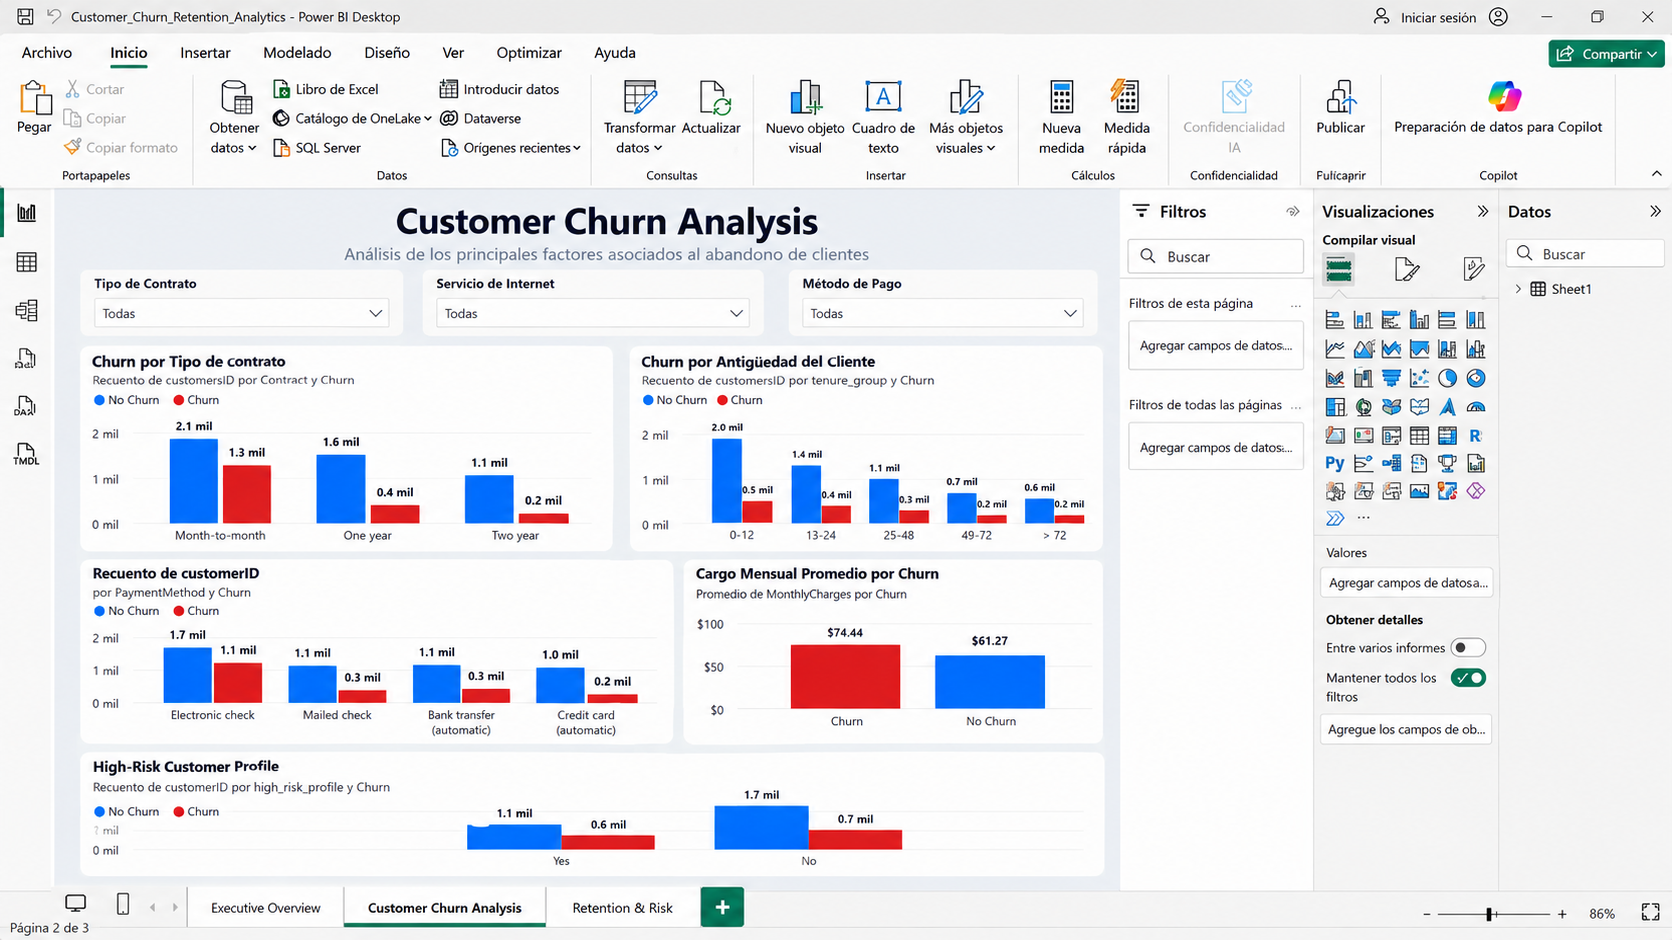

The page's visual inventory and layout, read from the dashboard file:
{"tool":"powerbi","page":{"name":"Customer Churn Analysis","canvas":[1920,1080],"ordinal":1},"visuals":[{"type":"textbox","box":[0,0,412.5,60],"z":0},{"type":"textbox","box":[0,60,610,57.5],"z":1000},{"type":"clusteredColumnChart","title":"Churn por Tipo de Contrato","fields":{"Category":["Sheet1.Contract"],"Series":["Sheet1.Churn"],"Y":["CountNonNull(Sheet1.customerID)"]},"box":[42.5,202.5,917.5,300],"z":2000},{"type":"clusteredColumnChart","title":"Churn por Antigüedad del Cliente","fields":{"Category":["Sheet1.tenure_group"],"Series":["Sheet1.Churn"],"Y":["CountNonNull(Sheet1.customerID)"]},"box":[960,202.5,910,300],"z":3000},{"type":"clusteredColumnChart","fields":{"Category":["Sheet1.PaymentMethod"],"Series":["Sheet1.Churn"],"Y":["CountNonNull(Sheet1.customerID)"]},"box":[45,502.5,917.5,240],"z":4000},{"type":"clusteredColumnChart","title":"Cargo Mensual Promedio por Churn","fields":{"Category":["Sheet1.Churn"],"Y":["Avg(Sheet1.MonthlyCharges)"]},"box":[962.5,502.5,917.5,240],"z":5000},{"type":"clusteredColumnChart","title":"High-Risk Customer Profile","fields":{"Category":["Sheet1.high_risk_profile"],"Series":["Sheet1.Churn"],"Y":["CountNonNull(Sheet1.customerID)"]},"box":[47.5,742.5,1832.5,290],"z":6000},{"type":"slicer","title":"Tipo de Contrato","fields":{"Values":["Sheet1.Contract"]},"box":[102.5,95,255,100],"z":7000},{"type":"slicer","title":"Servicio de Internet","fields":{"Values":["Sheet1.InternetService"]},"box":[772.5,90,320,112.5],"z":7001},{"type":"slicer","title":"Método de Pago","fields":{"Values":["Sheet1.PaymentMethod"]},"box":[1350,82.5,520,112.5],"z":7002}]}

Visuals, with their boxes on the page's 1920x1080 design canvas (x1, y1, x2, y2). These are canvas units, not pixel positions in the 1672x940 screenshot, which may show the page scaled, cropped or inside an application window:
textbox: 0, 0, 412, 60
textbox: 0, 60, 610, 118
"Churn por Tipo de Contrato" clusteredColumnChart: 42, 202, 960, 502
"Churn por Antigüedad del Cliente" clusteredColumnChart: 960, 202, 1870, 502
clusteredColumnChart - Sheet1.PaymentMethod x Sheet1.Churn: 45, 502, 962, 742
"Cargo Mensual Promedio por Churn" clusteredColumnChart: 962, 502, 1880, 742
"High-Risk Customer Profile" clusteredColumnChart: 48, 742, 1880, 1032
"Tipo de Contrato" slicer: 102, 95, 358, 195
"Servicio de Internet" slicer: 772, 90, 1092, 202
"Método de Pago" slicer: 1350, 82, 1870, 195
